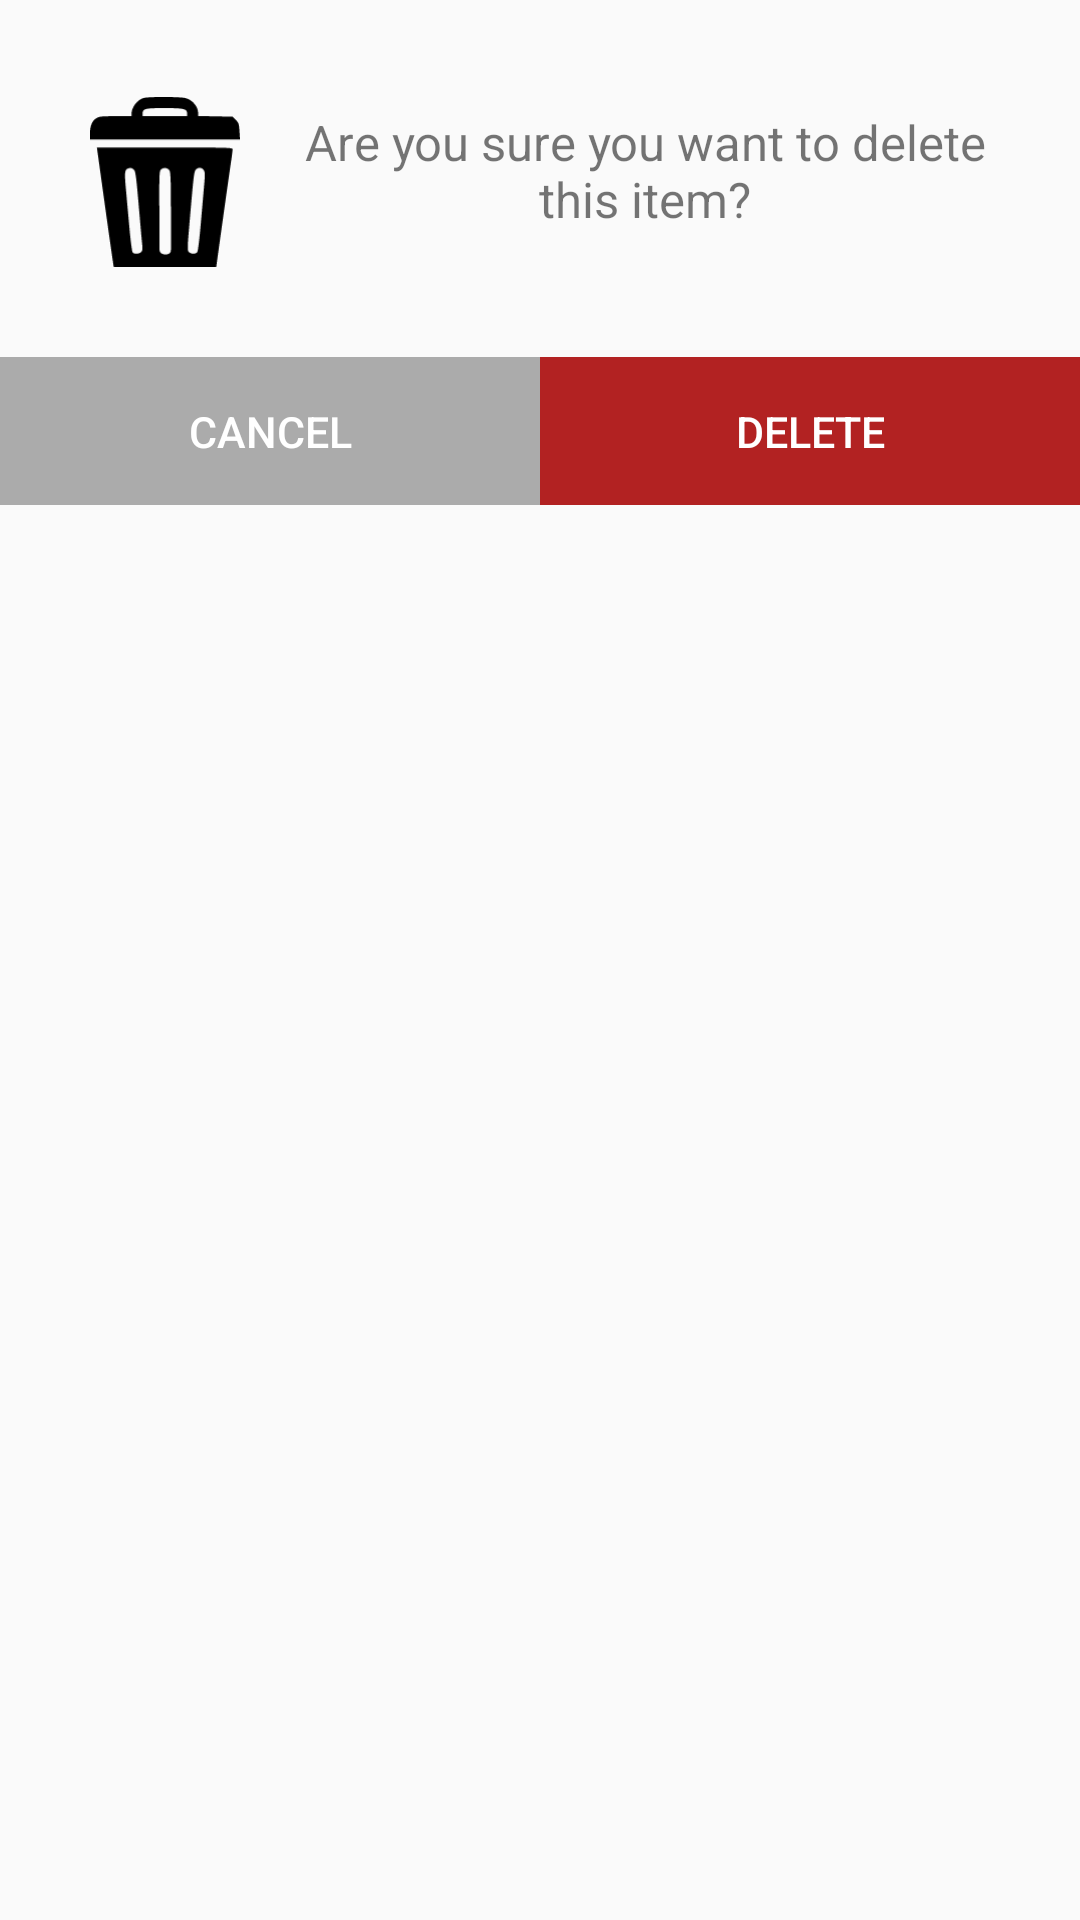

Screen size 1080x1920. Icon name, then its box in pixels as bbox=(x1, y1, x2, y2):
trash: bbox=(90, 97, 240, 267)
